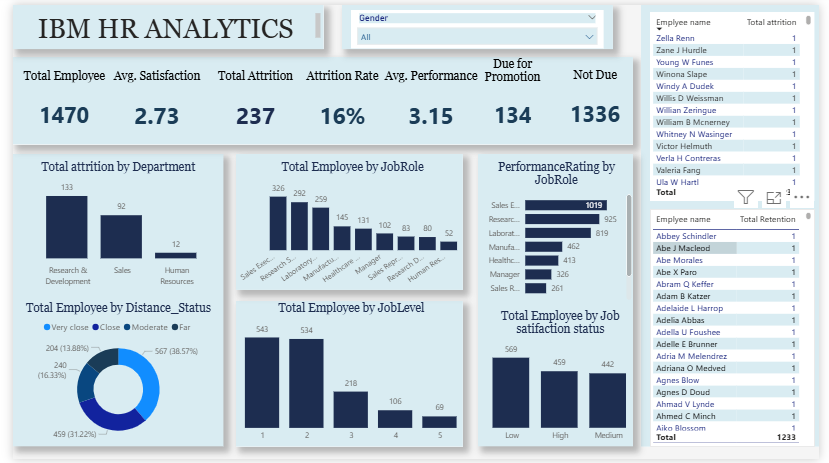

The page's visual inventory and layout, read from the dashboard file:
{"tool":"powerbi","page":{"name":"HR DASHBOARD 1","canvas":[1280,720],"ordinal":0},"visuals":[{"type":"shape","box":[0,236.8,334.5,464.4],"z":0},{"type":"shape","box":[0,82.9,984.3,138.6],"z":1000},{"type":"shape","box":[354.3,470,360,231.4],"z":2000},{"type":"shape","box":[354.3,237.1,360,215.7],"z":3000},{"type":"cardVisual","title":"Total Attrition","fields":{"Data":["IBM HR Employee Attrition Data.Total employee who left"]},"box":[305.7,101.4,157.1,120],"z":4000},{"type":"cardVisual","title":"Total Employee","fields":{"Data":["IBM HR Employee Attrition Data.Total Employee"]},"box":[0,101.4,162.9,120],"z":5000},{"type":"cardVisual","title":"Attrition Rate","fields":{"Data":["IBM HR Employee Attrition Data.AttritionRate"]},"box":[450,101.4,144.3,120],"z":6000},{"type":"cardVisual","title":"Avg. Performance","fields":{"Data":["IBM HR Employee Attrition Data.AvgPerformance"]},"box":[580,101.4,168.6,120],"z":7000},{"type":"cardVisual","title":"Avg. Satisfaction","fields":{"Data":["IBM HR Employee Attrition Data.AvgSatisfaction"]},"box":[150,101.4,155.7,120],"z":8000},{"type":"columnChart","fields":{"Y":["IBM HR Employee Attrition Data.Total Employee"],"Category":["IBM HR Employee Attrition Data.JobLevel"]},"box":[334.3,470,404.3,231.4],"z":9000},{"type":"donutChart","fields":{"Y":["IBM HR Employee Attrition Data.Total Employee"],"Category":["IBM HR Employee Attrition Data.Distance_Status"]},"box":[0,470.1,334.5,231],"z":10000},{"type":"clusteredColumnChart","fields":{"Y":["IBM HR Employee Attrition Data.Total attrition"],"Category":["IBM HR Employee Attrition Data.Department"]},"box":[0,245.7,334.3,207.1],"z":11000},{"type":"clusteredColumnChart","fields":{"Category":["IBM HR Employee Attrition Data.JobRole"],"Y":["IBM HR Employee Attrition Data.Total Employee"]},"box":[354.3,245.7,370,207.1],"z":12000},{"type":"shape","box":[997.1,0,282.9,701.4],"z":13000},{"type":"shape","box":[738.5,237.2,246.2,464.1],"z":14000},{"type":"barChart","title":"PerformanceRating by JobRole","fields":{"Category":["IBM HR Employee Attrition Data.JobRole"],"Y":["IBM HR Employee Attrition Data.PerformanceRating"]},"box":[738.5,246.2,248.7,226.9],"z":15000},{"type":"shape","box":[522.9,0,430,70],"z":16000},{"type":"pivotTable","fields":{"Rows":["HR employee data.Emplyee name"],"Values":["IBM HR Employee Attrition Data.Total attrition"]},"box":[1011.4,11.4,261.4,300],"z":17000},{"type":"shape","box":[0,0,493.1,70.1],"z":18000},{"type":"textbox","box":[0,8,493.1,52.9],"z":19000},{"type":"pivotTable","fields":{"Values":["IBM HR Employee Attrition Data.Total employee who are still working"],"Rows":["HR employee data.Emplyee name"]},"box":[1011.4,324.3,261.4,377.1],"z":20000},{"type":"slicer","fields":{"Values":["IBM HR Employee Attrition Data.Gender"]},"box":[537.1,8.6,401.4,61.4],"z":21000},{"type":"cardVisual","title":"Due for Promotion","fields":{"Data":["IBM HR Employee Attrition Data.Due for Promotion"]},"box":[723.7,82.5,138.1,138.1],"z":22000},{"type":"cardVisual","title":"Not Due","fields":{"Data":["IBM HR Employee Attrition Data.Not Due for promotion"]},"box":[850.5,100,146.4,120.6],"z":23000},{"type":"columnChart","fields":{"Category":["IBM HR Employee Attrition Data.Job satifaction status"],"Y":["IBM HR Employee Attrition Data.Total Employee"]},"box":[724.7,482.5,286.6,218.6],"z":24000}]}

Visuals, with their boxes in screenshot pixels (x1, y1, x2, y2), scaled from the page's 1280x720 canvas onto the 829x463 screenshot:
shape: 0, 152, 217, 451
shape: 0, 53, 637, 142
shape: 229, 302, 463, 451
shape: 229, 152, 463, 291
"Total Attrition" cardVisual: 198, 65, 300, 142
"Total Employee" cardVisual: 0, 65, 106, 142
"Attrition Rate" cardVisual: 291, 65, 385, 142
"Avg. Performance" cardVisual: 376, 65, 485, 142
"Avg. Satisfaction" cardVisual: 97, 65, 198, 142
columnChart - IBM HR Employee Attrition Data.Total Employee x IBM HR Employee Attrition Data.JobLevel: 217, 302, 478, 451
donutChart - IBM HR Employee Attrition Data.Total Employee x IBM HR Employee Attrition Data.Distance_Status: 0, 302, 217, 451
clusteredColumnChart - IBM HR Employee Attrition Data.Total attrition x IBM HR Employee Attrition Data.Department: 0, 158, 217, 291
clusteredColumnChart - IBM HR Employee Attrition Data.JobRole x IBM HR Employee Attrition Data.Total Employee: 229, 158, 469, 291
shape: 646, 0, 828, 451
shape: 478, 153, 638, 451
"PerformanceRating by JobRole" barChart: 478, 158, 639, 304
shape: 339, 0, 617, 45
pivotTable - HR employee data.Emplyee name x IBM HR Employee Attrition Data.Total attrition: 655, 7, 824, 200
shape: 0, 0, 319, 45
textbox: 0, 5, 319, 39
pivotTable - IBM HR Employee Attrition Data.Total employee who are still working x HR employee data.Emplyee name: 655, 209, 824, 451
slicer - IBM HR Employee Attrition Data.Gender: 348, 6, 608, 45
"Due for Promotion" cardVisual: 469, 53, 558, 142
"Not Due" cardVisual: 551, 64, 646, 142
columnChart - IBM HR Employee Attrition Data.Job satifaction status x IBM HR Employee Attrition Data.Total Employee: 469, 310, 655, 451
